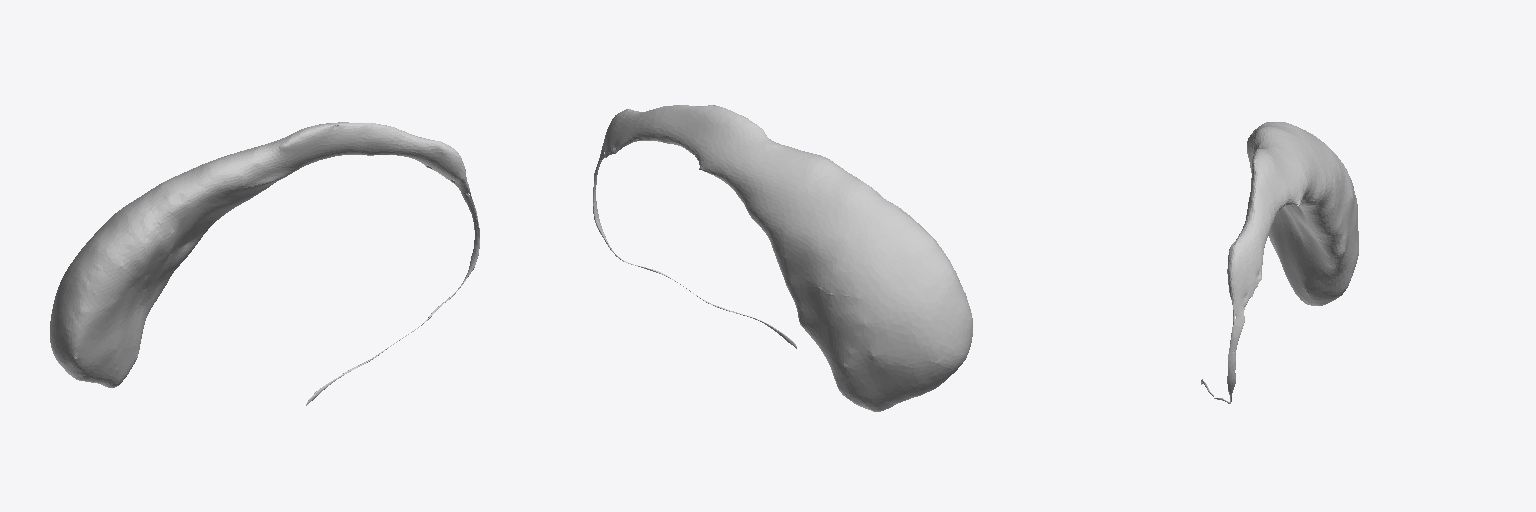
The model's file is L-Caudate.obj.
3 renders of one model, left to right at view 1: azimuth 30°, elevation 25°; view 2: azimuth 150°, elevation 25°; view 3: azimuth 270°, elevation 25°, orthographic.
Visible parts, largest first — view 1: L-caudate_caudate-nucleus; view 2: L-caudate_caudate-nucleus; view 3: L-caudate_caudate-nucleus.
Boxes of the visible parts, <box> form: L-caudate_caudate-nucleus: <box>50,122,479,405</box>; L-caudate_caudate-nucleus: <box>593,105,972,411</box>; L-caudate_caudate-nucleus: <box>1201,122,1358,403</box>.
Size of the model in its own units: 89.82 by 54.17 by 31.06.